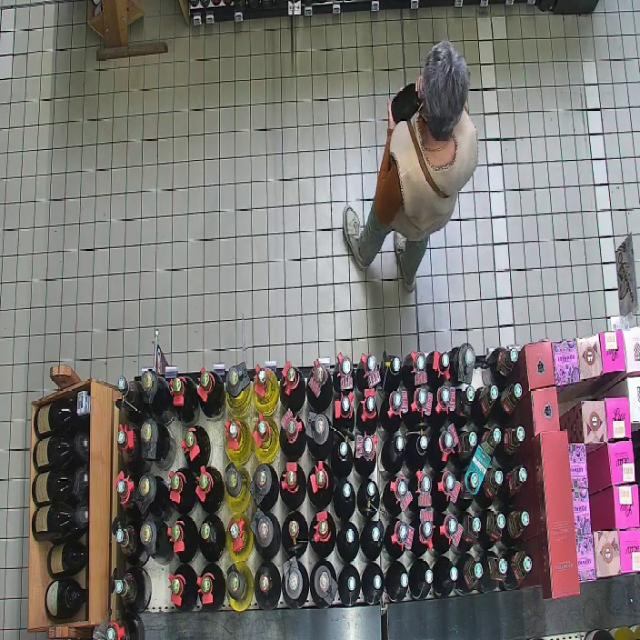article: (391, 82, 422, 125)
hands: (388, 98, 396, 129), (415, 74, 423, 99)
person: (344, 42, 478, 291)
